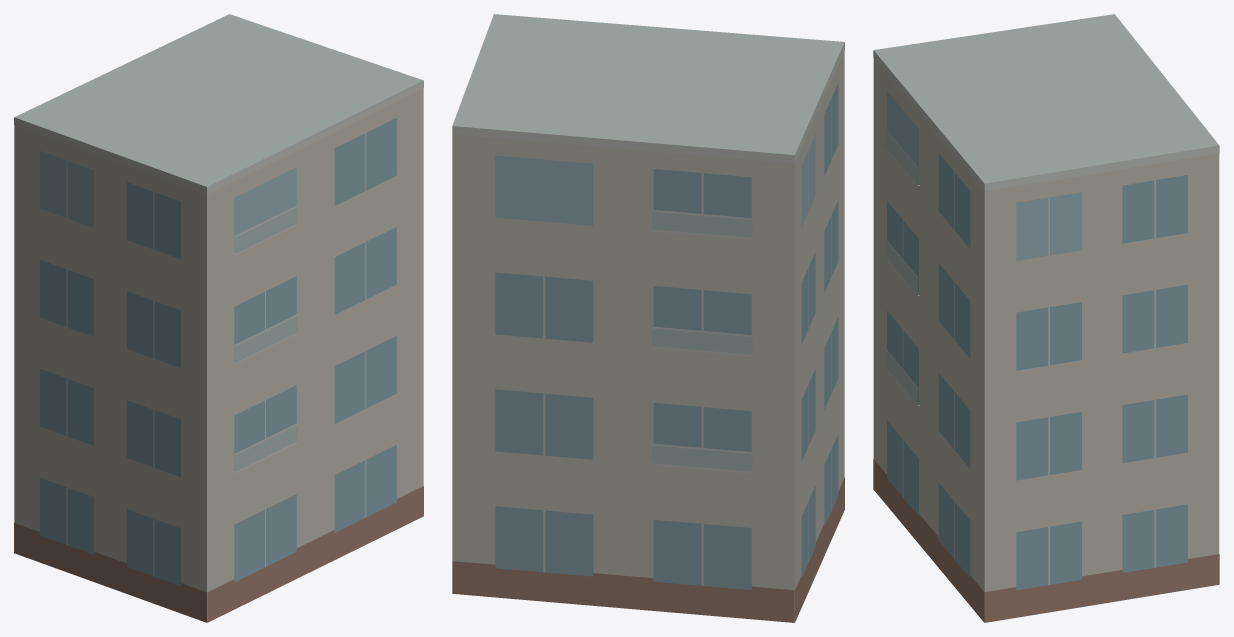
Rendered from survey-upis-32465292.glb.
The picture shows the model from 3 angles, left to right: view 1: azimuth 30°, elevation 25°; view 2: azimuth 150°, elevation 25°; view 3: azimuth 270°, elevation 25°; orthographic projection. The views are drawn at different scales.
Parts seen in each view (by area): view 1: survey-upis-32465292.tmp; view 2: survey-upis-32465292.tmp; view 3: survey-upis-32465292.tmp.
Boxes of the visible parts, x1,y1,x2,y2 form: survey-upis-32465292.tmp: [14, 14, 423, 622]; survey-upis-32465292.tmp: [452, 14, 844, 622]; survey-upis-32465292.tmp: [873, 14, 1219, 622].
Size of the model in its own units: 11.36 by 13.7 by 9.79.
